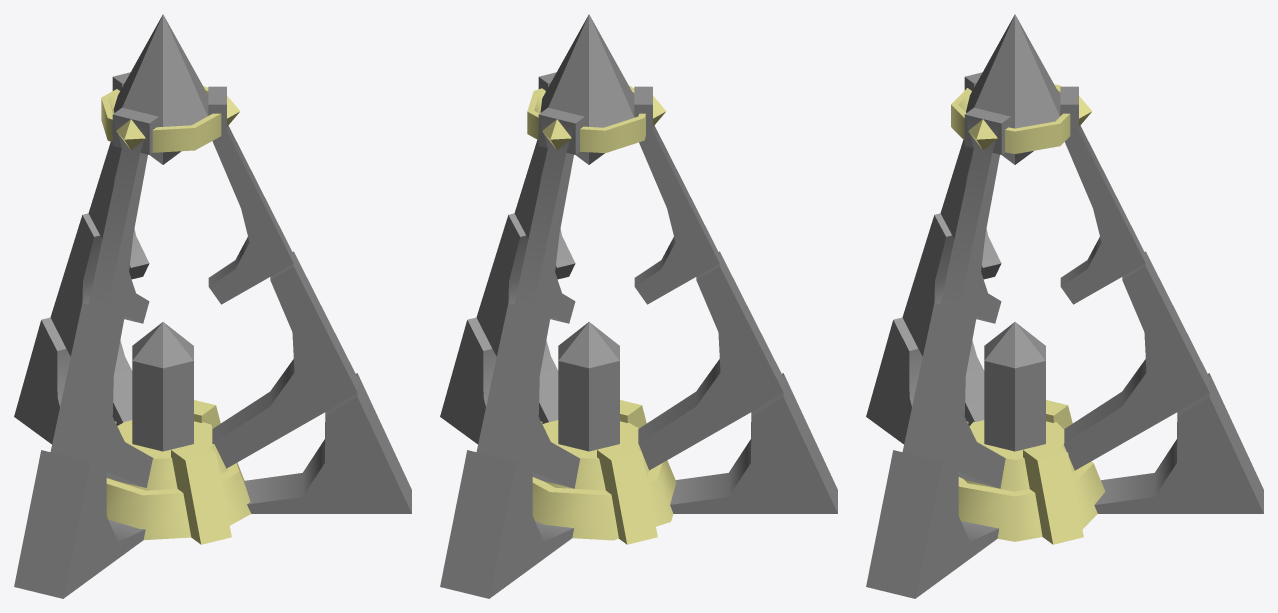
Rendered from tri_mid.FBX.
3 renders of one model, left to right at view 1: azimuth 30°, elevation 25°; view 2: azimuth 150°, elevation 25°; view 3: azimuth 270°, elevation 25°, orthographic.
Parts seen in each view (by area): view 1: tripod_mid; view 2: tripod_mid; view 3: tripod_mid.
Boxes of the visible parts, x1=… form: tripod_mid: x1=14, y1=14, x2=411, y2=598; tripod_mid: x1=440, y1=14, x2=837, y2=598; tripod_mid: x1=866, y1=14, x2=1263, y2=598.
Size of the model in its own units: 7775 by 9109 by 6733.
